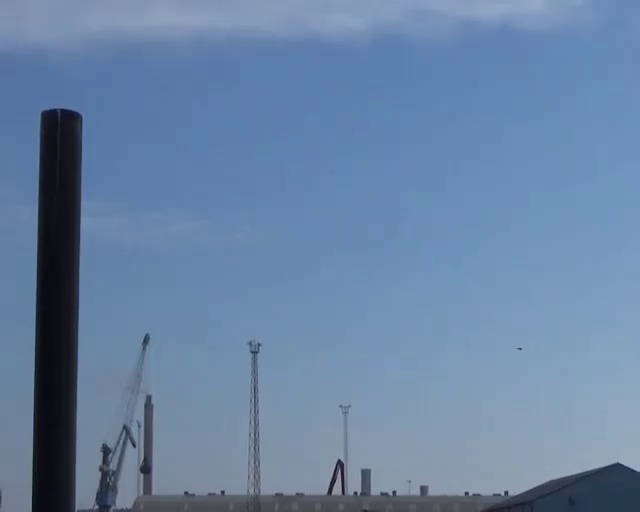BIRD: (441, 197, 455, 209)
